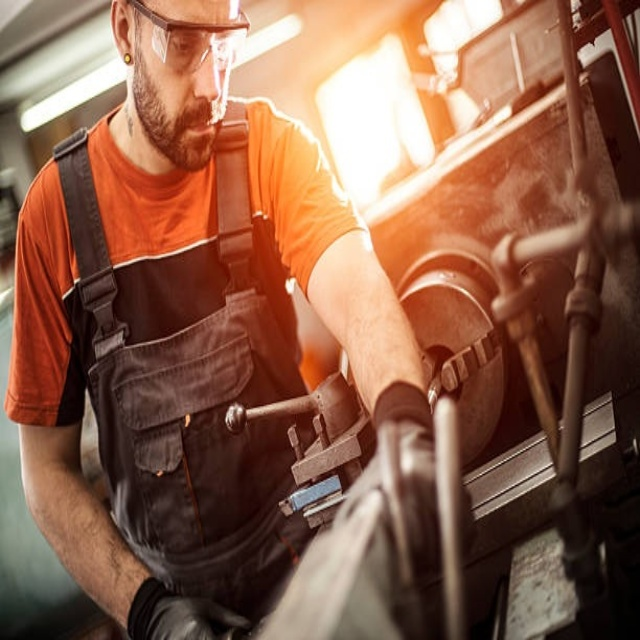Gafas: (131, 1, 250, 75)
Guantes: (371, 384, 458, 633), (128, 578, 250, 640)
Sin_mascara: (177, 105, 224, 160)
